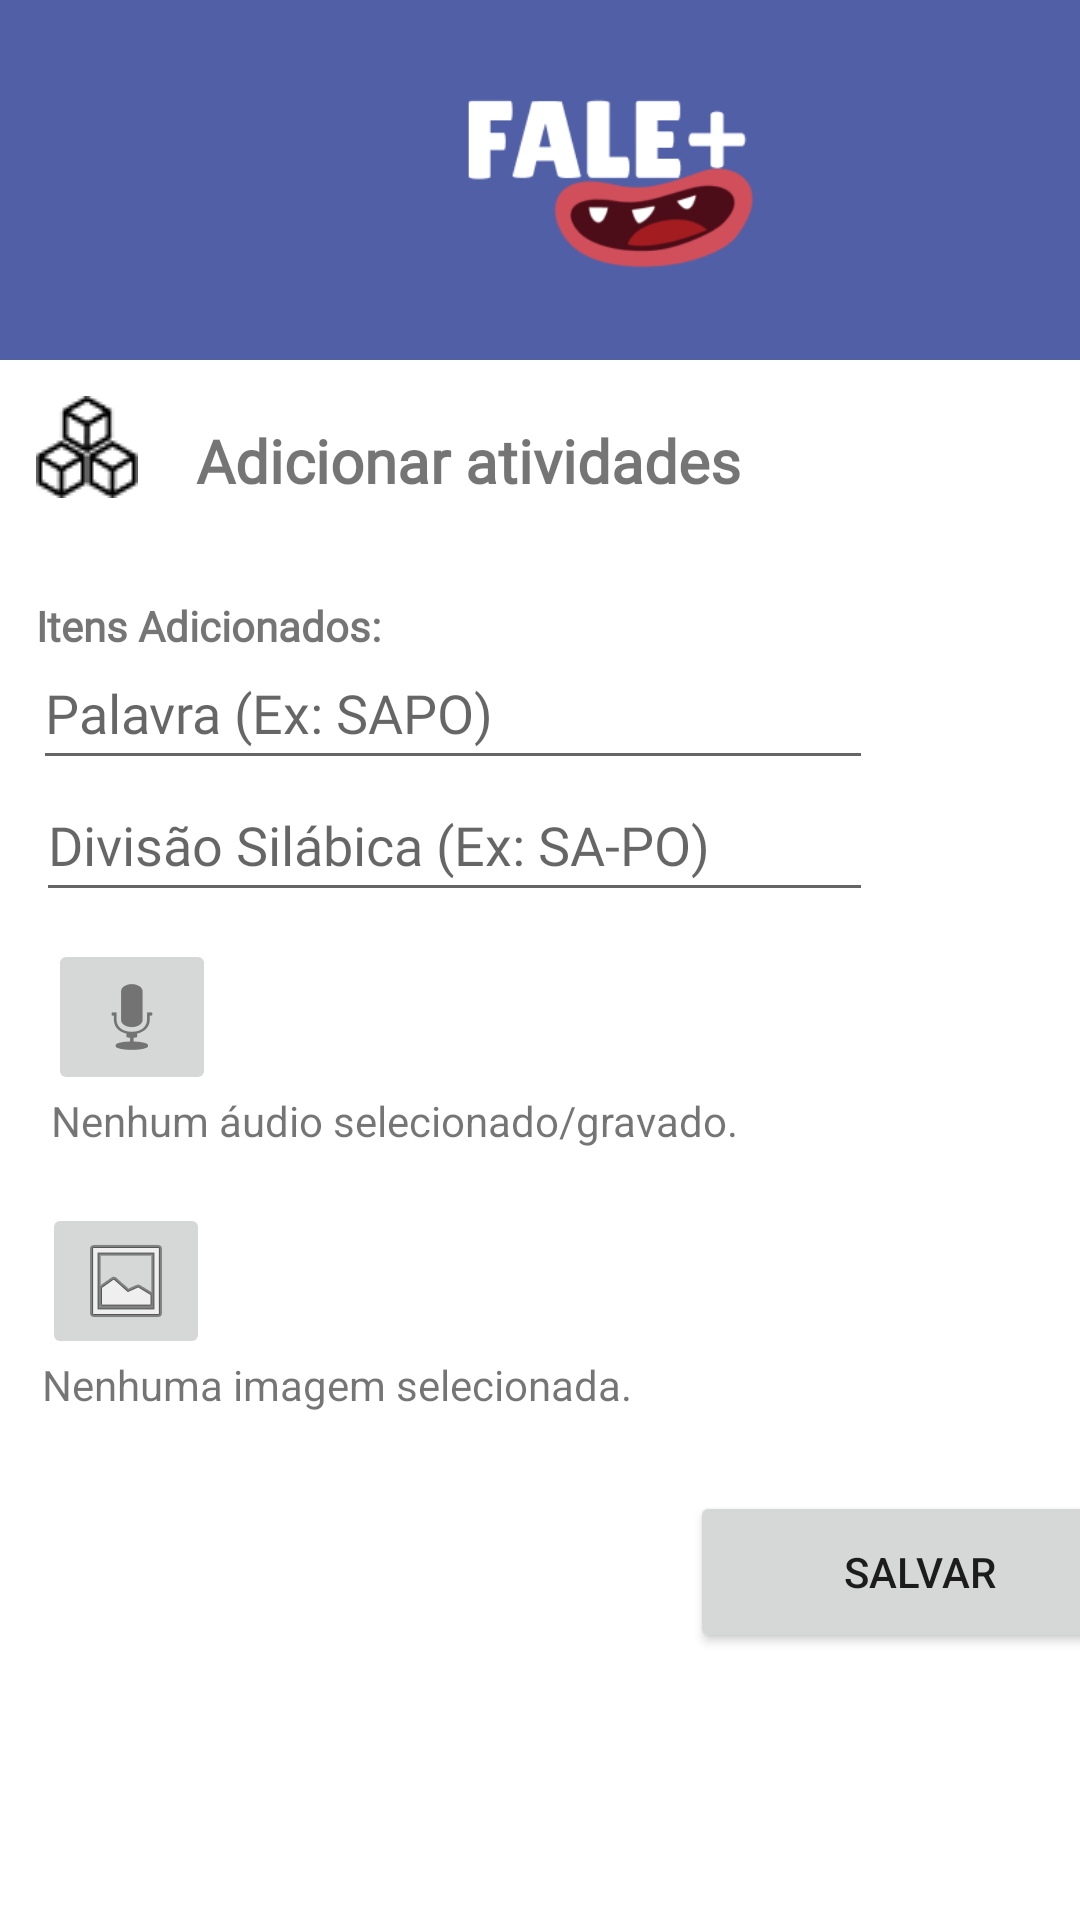

Where icons sit on this 1080*1920 app screen, as box(x1, y1, x2, y2):
blocos preto: box(36, 396, 138, 498)
immagem: box(54, 1221, 198, 1341)
Toque em Gravar: box(60, 957, 204, 1077)
